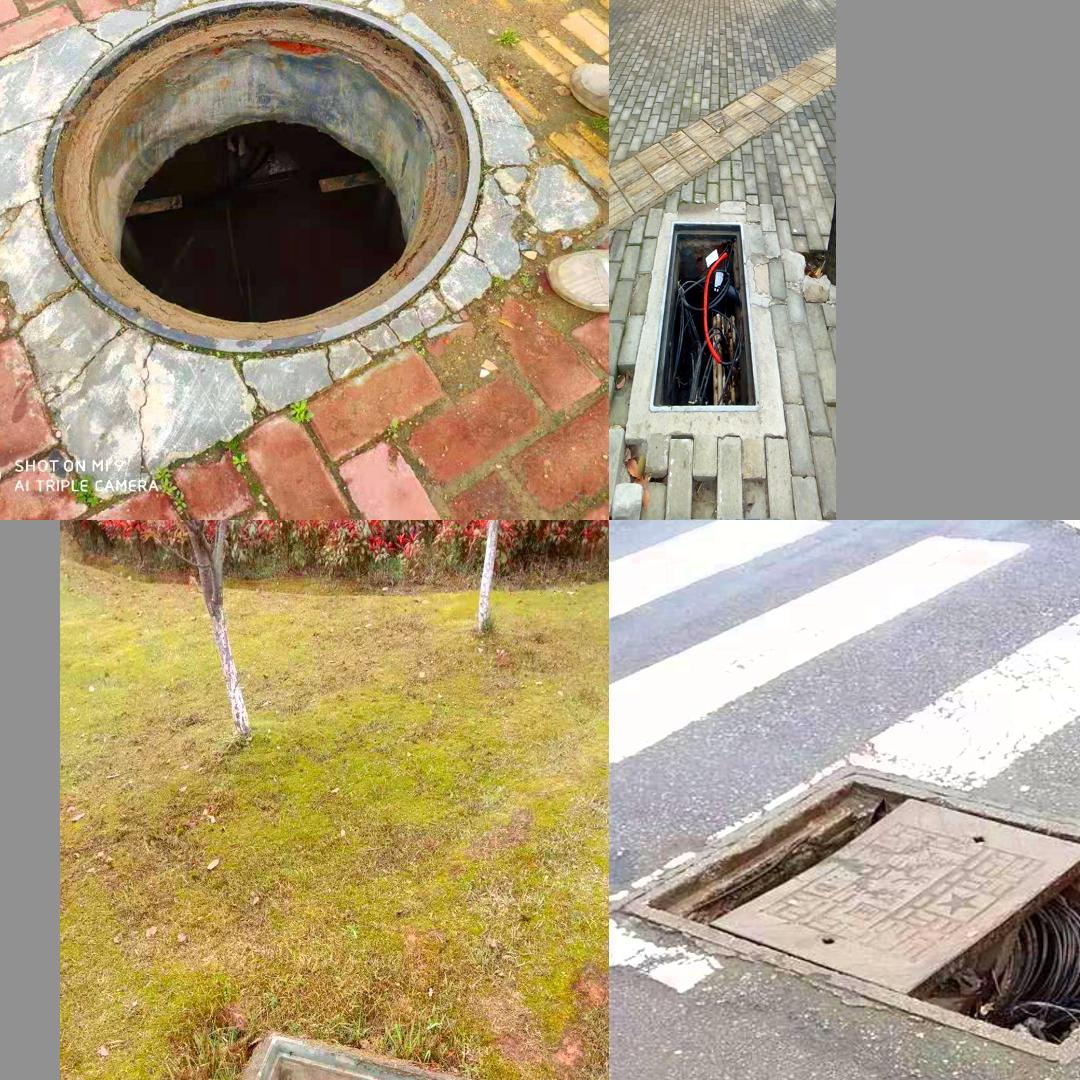lose: (37, 0, 483, 359), (616, 742, 1080, 1079), (651, 197, 756, 417), (222, 1029, 466, 1080)
